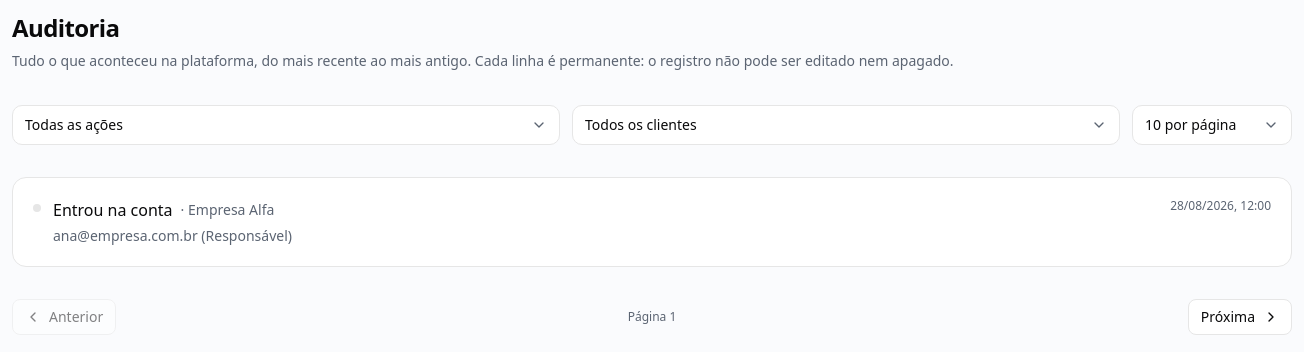
Test: AuditLogPage › pages forward by cursor and back again
The width and height of the screenshot is (1304, 352).
expect the text "Entrou na conta" is shown: met, box [53,198,173,222]
expect the text "Página 1" is shown: met, box [628,309,676,325]
Click the button "Próxima". click: (1240, 317)
box: [1188,299,1292,335]
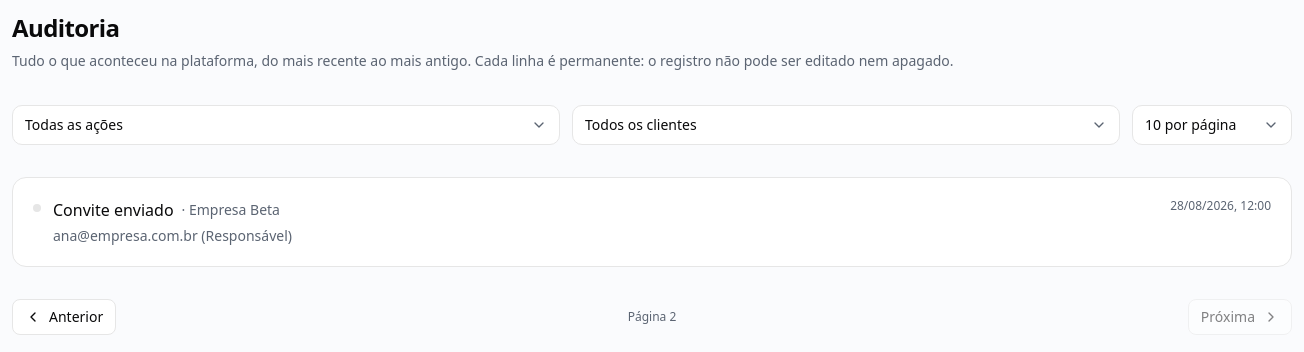
expect the text "Convite enviado" is shown: met, box [53,198,174,222]
expect the text "Página 2" is shown: met, box [628,309,676,325]
Back to page 1.
Click the button "Anterior". click: (64, 317)
box: [12,299,116,335]
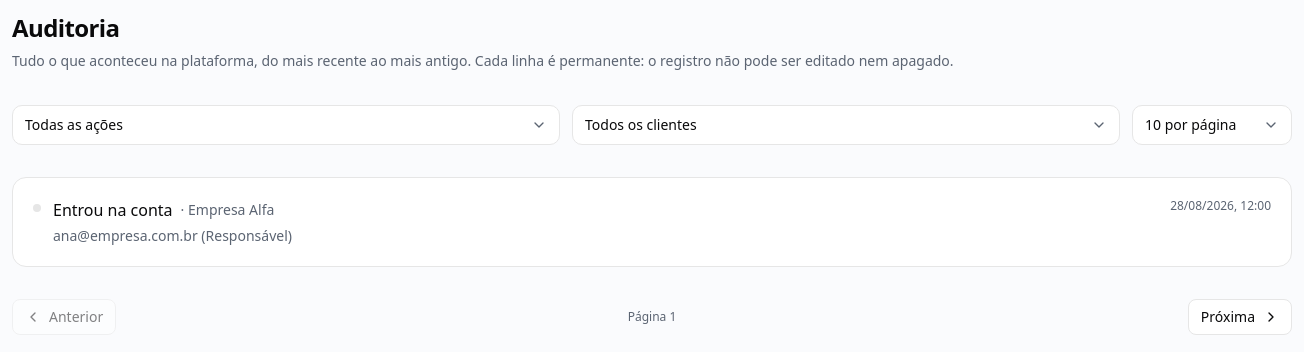
expect the text "Página 1" is shown: met, box [628,309,676,325]
expect the text "Entrou na conta" is shown: met, box [53,198,173,222]
